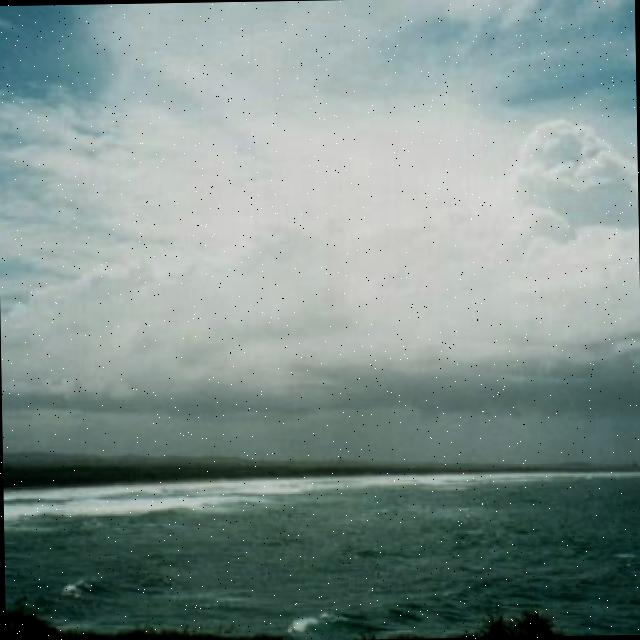Cs: (1, 7, 640, 439)
